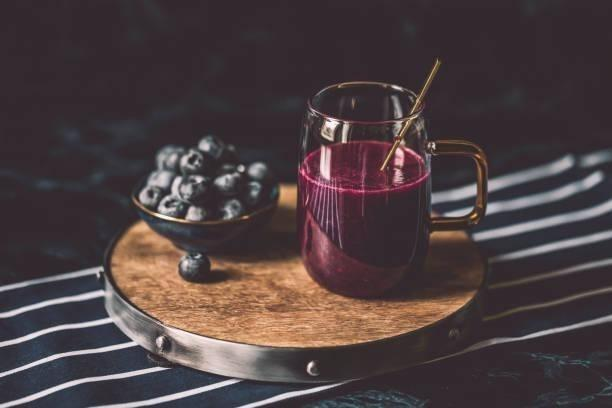glass-mug: (294, 78, 491, 300)
